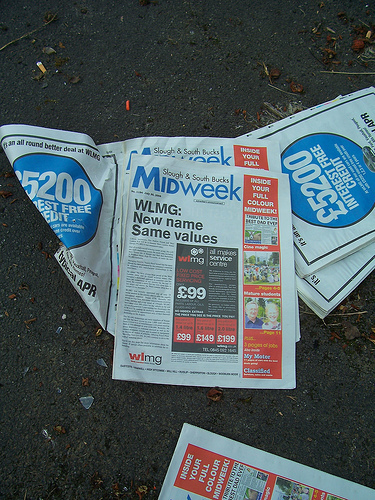litter: (0, 124, 300, 390), (279, 84, 375, 320), (153, 423, 375, 500)
